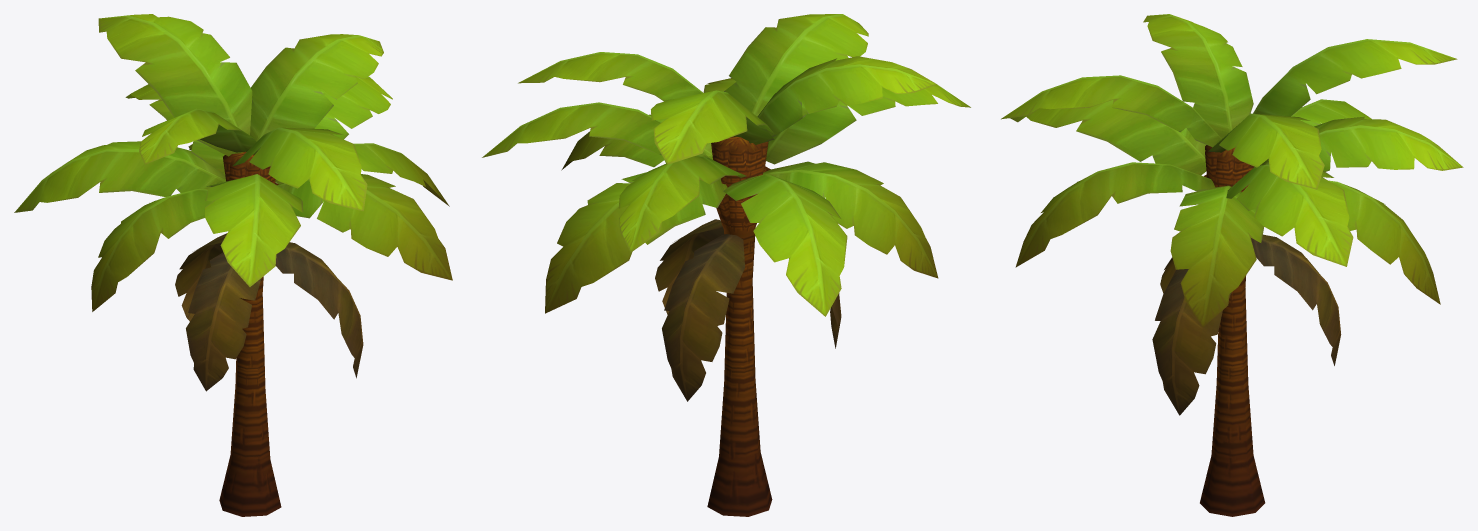
Rendered from coconut_tree.fbx.
3 views of the same model, side by side, from view 1: azimuth 30°, elevation 25°; view 2: azimuth 150°, elevation 25°; view 3: azimuth 270°, elevation 25° (orthographic). The views are drawn at different scales.
Parts seen in each view (by area): view 1: coconut_tree; view 2: coconut_tree; view 3: coconut_tree.
Boxes of the visible parts, x1,y1,x2,y2 form: coconut_tree: [14, 14, 452, 516]; coconut_tree: [482, 14, 970, 516]; coconut_tree: [1001, 14, 1463, 516].
Bounding box in the file's own units: 615 × 708 × 662.
Materials: 1 (1 with a texture image).
